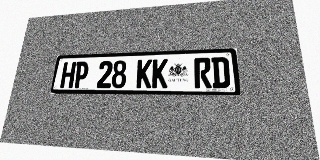2: (97, 61, 113, 88)
8: (111, 60, 127, 88)
D: (211, 57, 230, 88)
H: (60, 62, 76, 88)
K: (136, 59, 152, 88), (152, 59, 168, 88)
P: (73, 61, 89, 88)
R: (194, 57, 212, 88)
